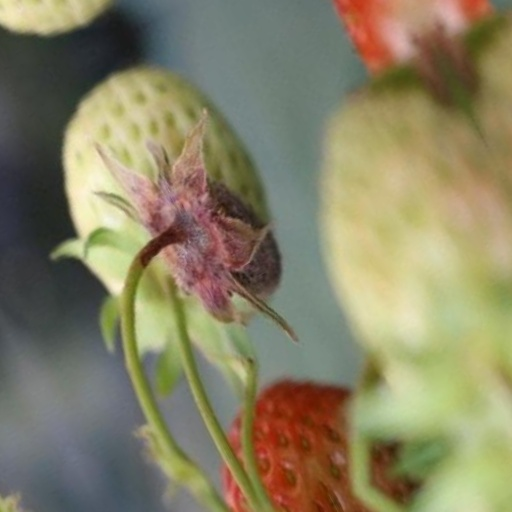Gray Mold: (221, 156, 370, 435)
